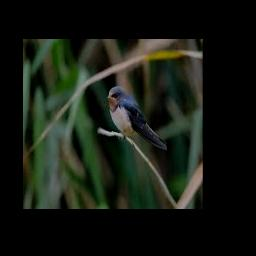Swallow: (108, 86, 169, 150)
